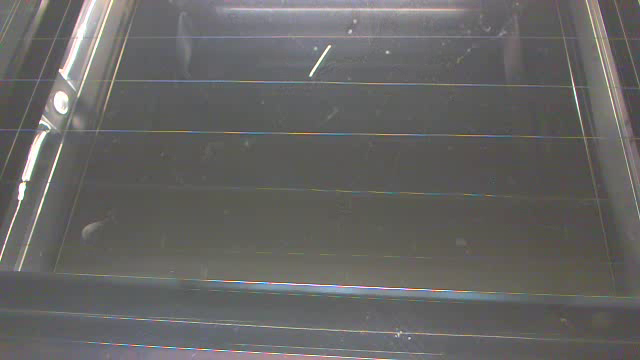alpha: (78, 215, 106, 242), (452, 234, 470, 248)
